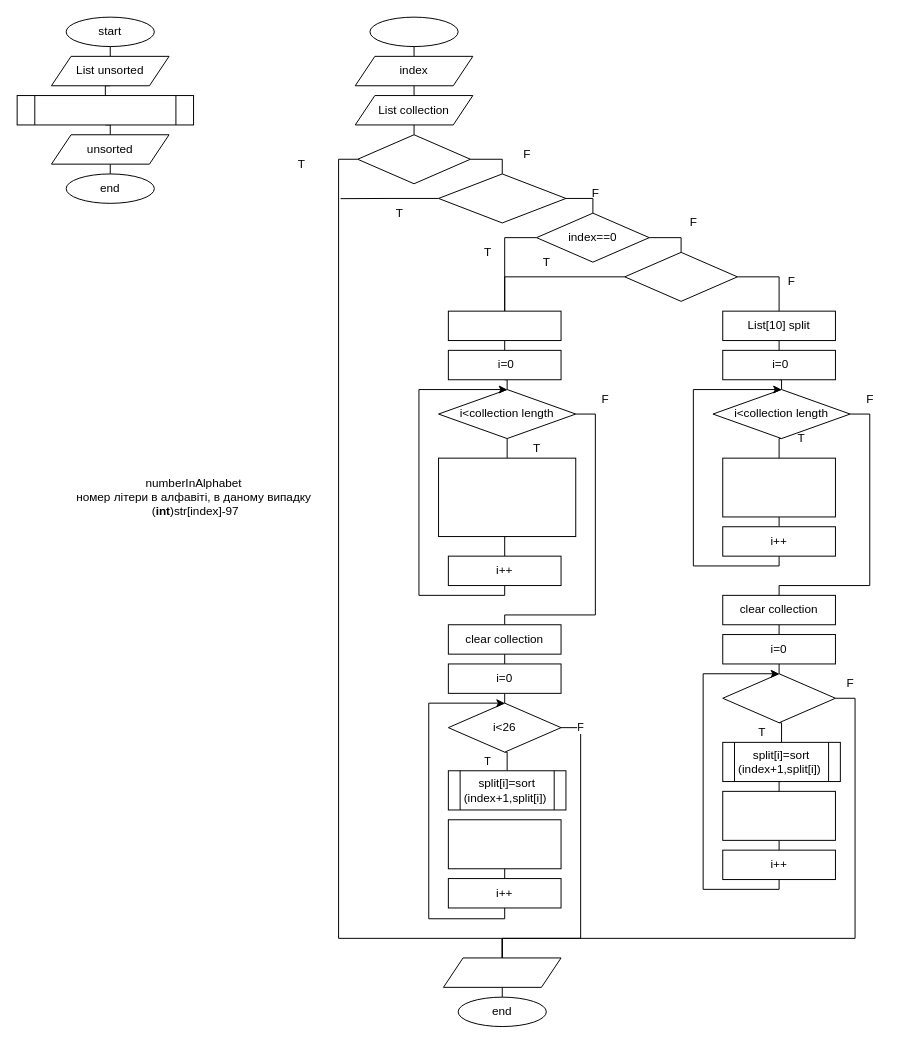
Image size: 897x1044. Some labels were removed from this diagram. Here are the shapes that lost their labels. From the top down, the centre of each, then its label:
pixel 413 31: start sort
pixel 105 110: unsorted=sort(0,unsorted)
pixel 413 159: index==7
pixel 502 198: collection length==0
pixel 680 276: index>4
pixel 504 325: List[26] split
pixel 507 497: add collection[i] to split[numberInAlphabet (collection[i][index])]
pixel 778 487: add collection[i] to split[collection[i][index]]
pixel 778 698: i<10
pixel 778 815: add split[9-i] to collection
pixel 504 844: add split[25-i] to collection
pixel 501 972: collection
